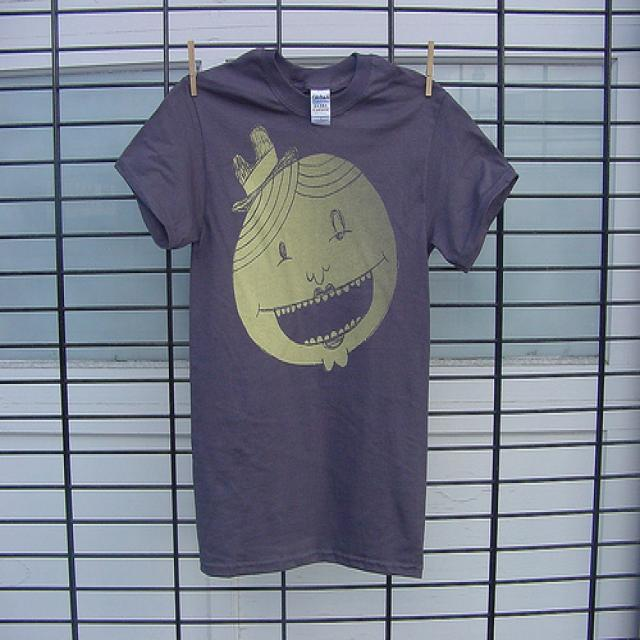shirt: (122, 41, 515, 582)
